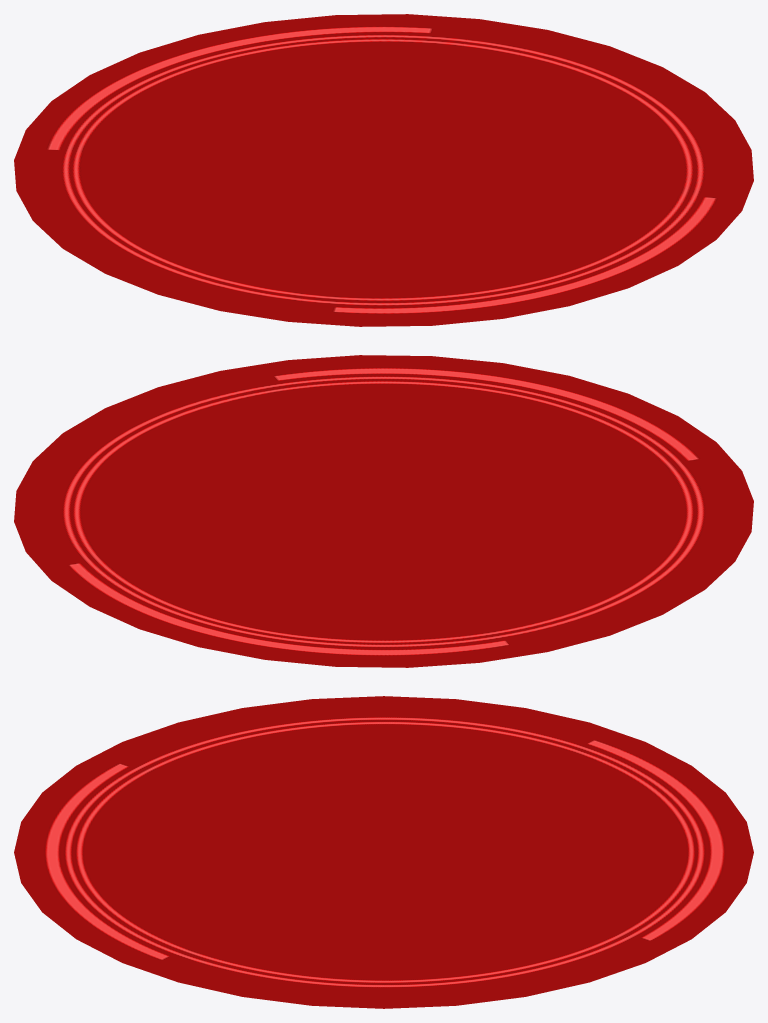
Rendered from EnemySelect.glb.
The picture shows the model from 3 angles, top to bottom: view 1: azimuth 30°, elevation 25°; view 2: azimuth 150°, elevation 25°; view 3: azimuth 270°, elevation 25°; orthographic projection.
Visible parts, largest first — view 1: Circle; view 2: Circle; view 3: Circle.
Boxes of the visible parts, <box> form: Circle: <box>14,14,753,326</box>; Circle: <box>14,355,753,667</box>; Circle: <box>14,696,753,1008</box>.
Bounding box in the file's own units: 1.29 × 0 × 1.29.
Materials: 1 (1 with a texture image).
